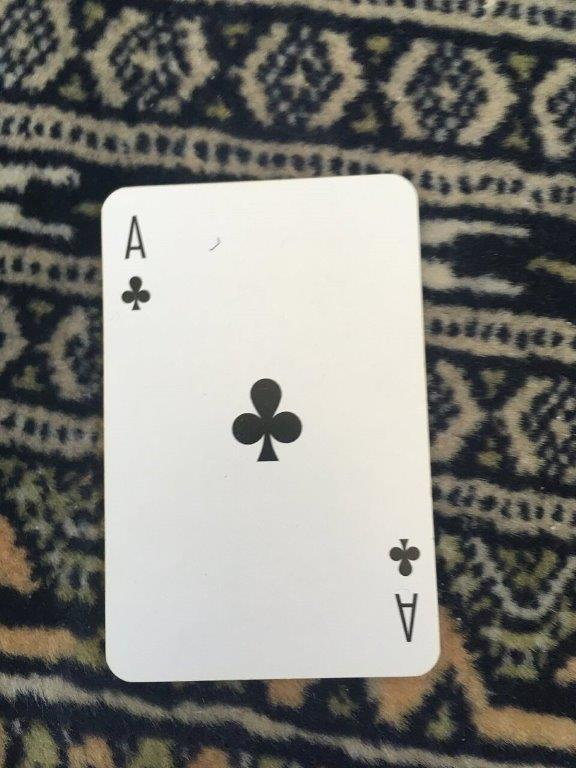AC: (97, 171, 443, 685)
